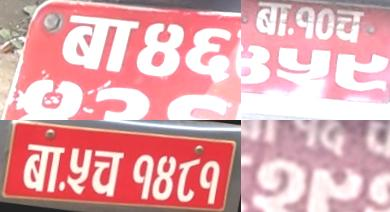0: (58, 11, 139, 78), (312, 6, 339, 45)
1: (193, 159, 225, 211), (126, 152, 157, 203), (284, 120, 326, 156), (291, 5, 320, 43)
2: (247, 155, 314, 212), (358, 169, 390, 212)
4: (180, 25, 236, 86), (148, 89, 231, 120), (241, 37, 278, 91), (149, 154, 180, 206)
5: (6, 73, 87, 120), (271, 42, 336, 97), (134, 21, 187, 82), (61, 145, 95, 199)
6: (317, 120, 359, 162)
8: (172, 156, 202, 207), (241, 144, 259, 212)
9: (328, 45, 390, 101), (303, 162, 371, 212)
ba: (15, 137, 68, 198), (77, 82, 154, 120), (250, 0, 296, 43), (241, 120, 291, 150)
cha: (85, 147, 128, 202), (357, 120, 390, 167), (332, 6, 368, 49)
